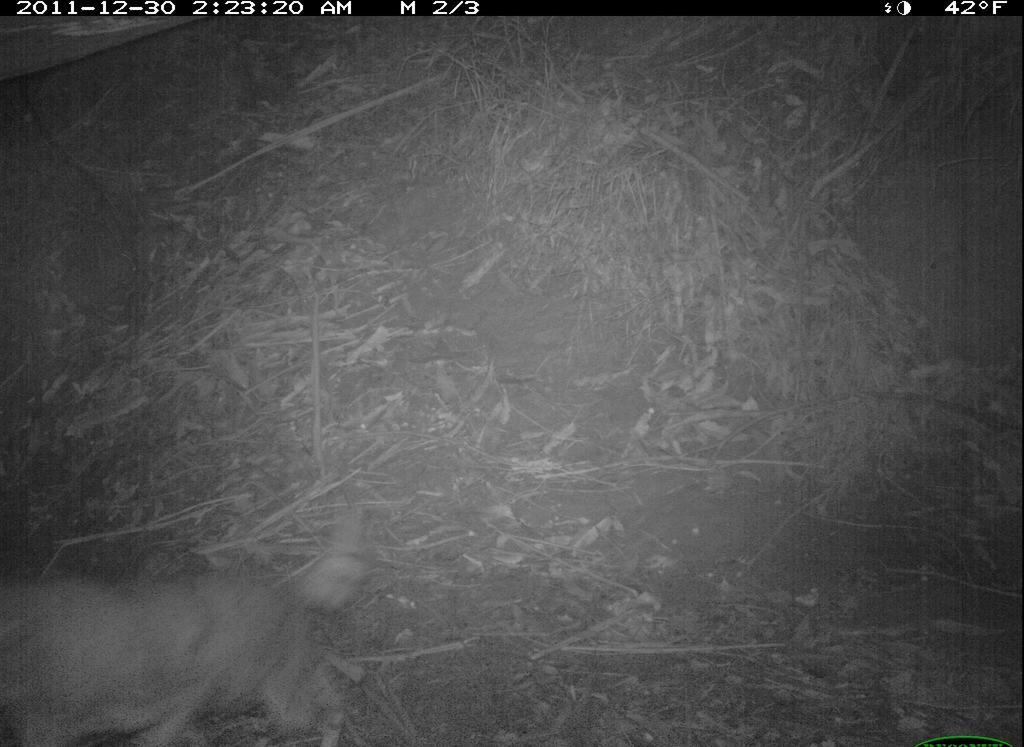coyote: (6, 507, 378, 740)
